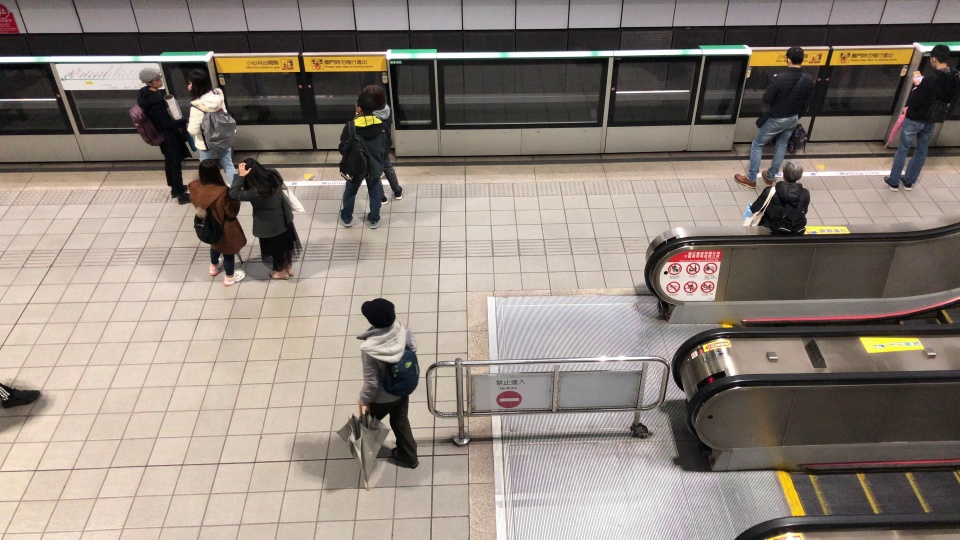person_head: (359, 298, 396, 330), (196, 159, 225, 188), (240, 157, 265, 189), (187, 68, 213, 97), (927, 44, 951, 71), (135, 68, 163, 91), (362, 85, 386, 111), (780, 160, 804, 185), (783, 45, 806, 69), (353, 95, 374, 117)
person_vbox: (732, 45, 816, 190), (354, 297, 423, 470), (881, 44, 960, 193), (228, 157, 306, 281), (127, 68, 197, 204), (186, 159, 251, 285), (180, 67, 241, 190), (333, 94, 383, 231), (358, 84, 405, 205), (741, 160, 811, 237)
